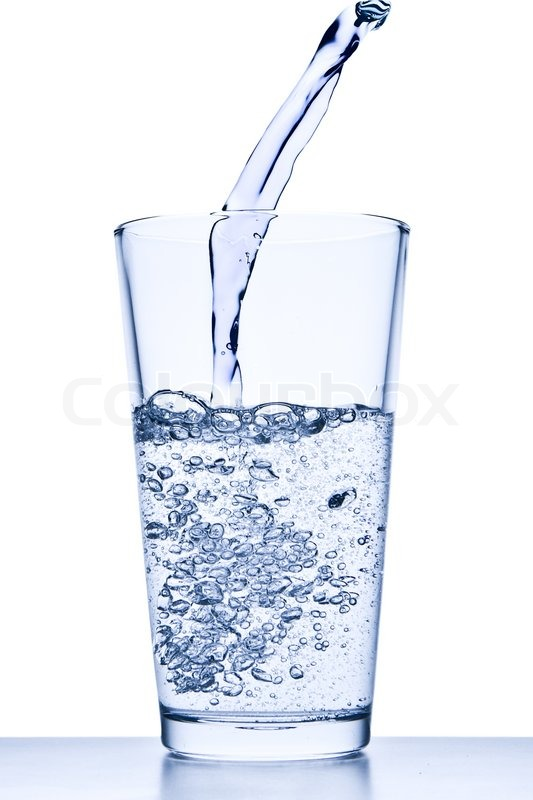glass of water: (121, 214, 413, 761)
